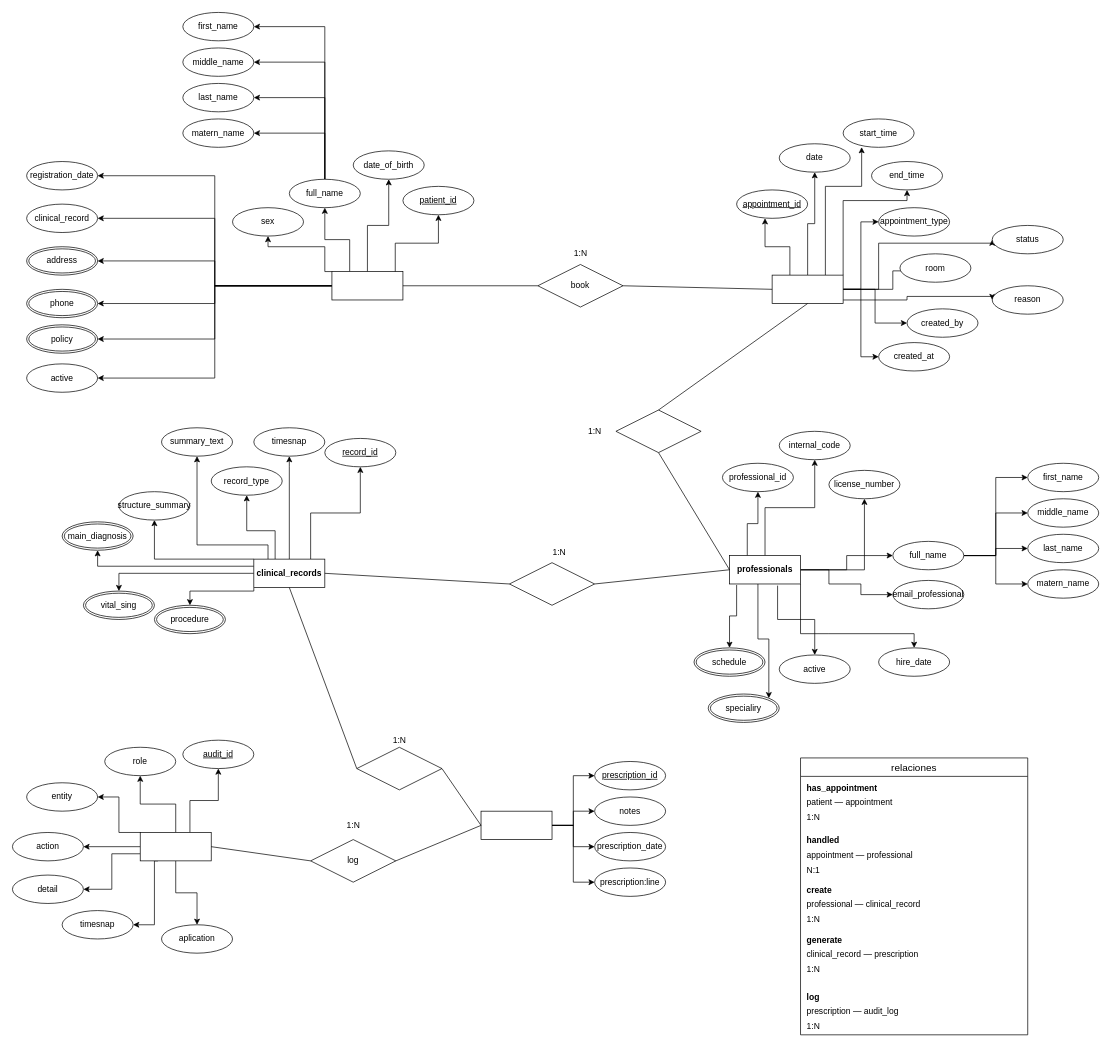
Image size: 1111x1049. Some labels were removed from this diagram. Here are the shapes that lost their labels. From the top down, the centre of each, then its label:
At point (367, 285): "patients".
At point (807, 289): "appointments".
At point (658, 431): "handled".
At point (552, 583): "create".
At point (399, 768): "generate".
At point (516, 825): "prescriptions".
At point (175, 846): "audit_logs".
